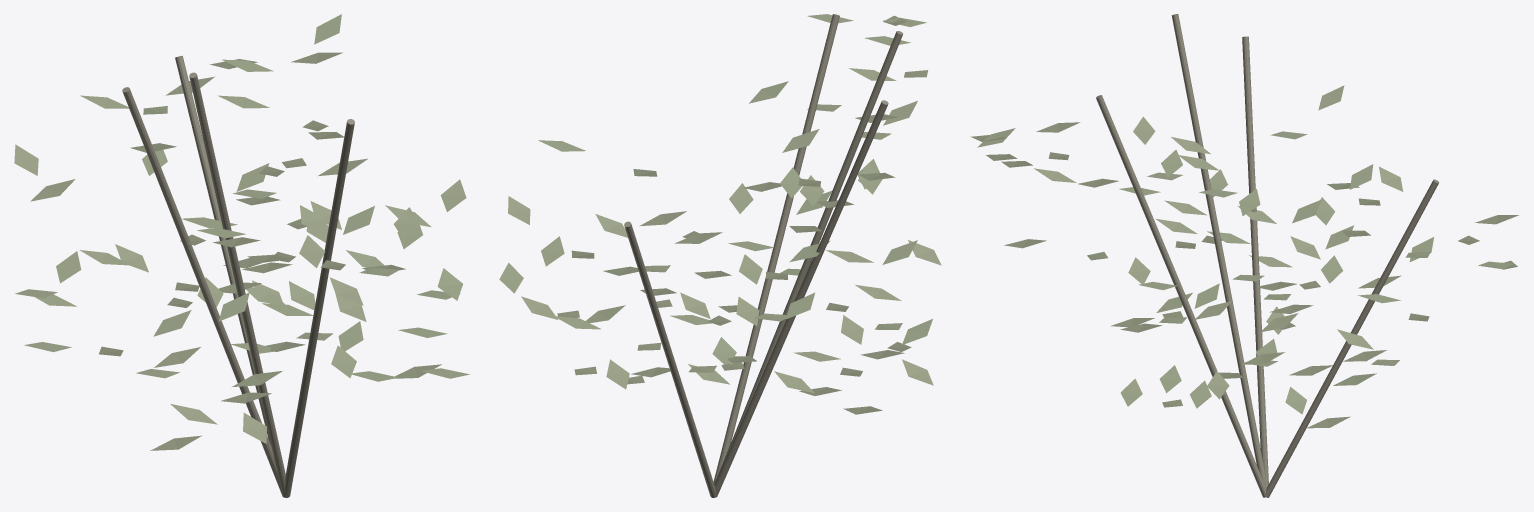
Rendered from AE_Shrubs_0_-1.fbx.
3 renders of one model, left to right at view 1: azimuth 30°, elevation 25°; view 2: azimuth 150°, elevation 25°; view 3: azimuth 270°, elevation 25°, orthographic. The views are drawn at different scales.
Parts seen in each view (by area): view 1: AE_Shrubs_0_-1_LOD0; view 2: AE_Shrubs_0_-1_LOD0; view 3: AE_Shrubs_0_-1_LOD0.
Boxes of the visible parts, x1,y1,x2,y2 form: AE_Shrubs_0_-1_LOD0: (14, 14, 469, 497); AE_Shrubs_0_-1_LOD0: (499, 14, 941, 497); AE_Shrubs_0_-1_LOD0: (970, 14, 1518, 497).
Size of what is drawn, in the model's own units: 107 by 132 by 155.
